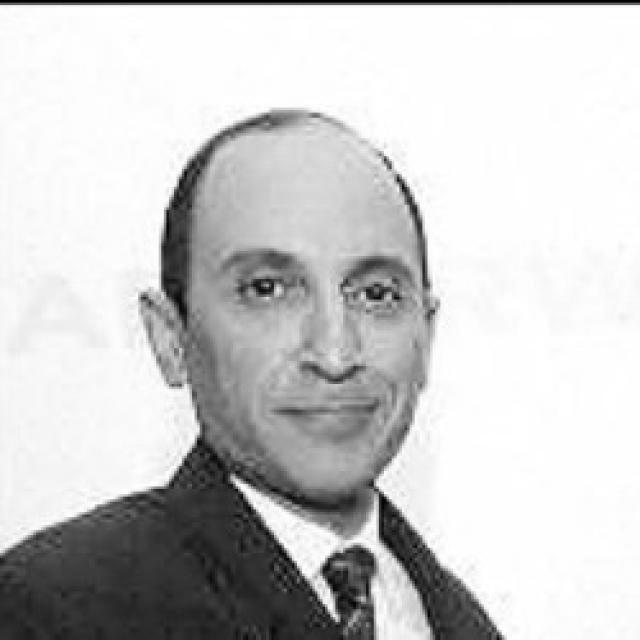real: (141, 136, 467, 510), (221, 247, 409, 328)
